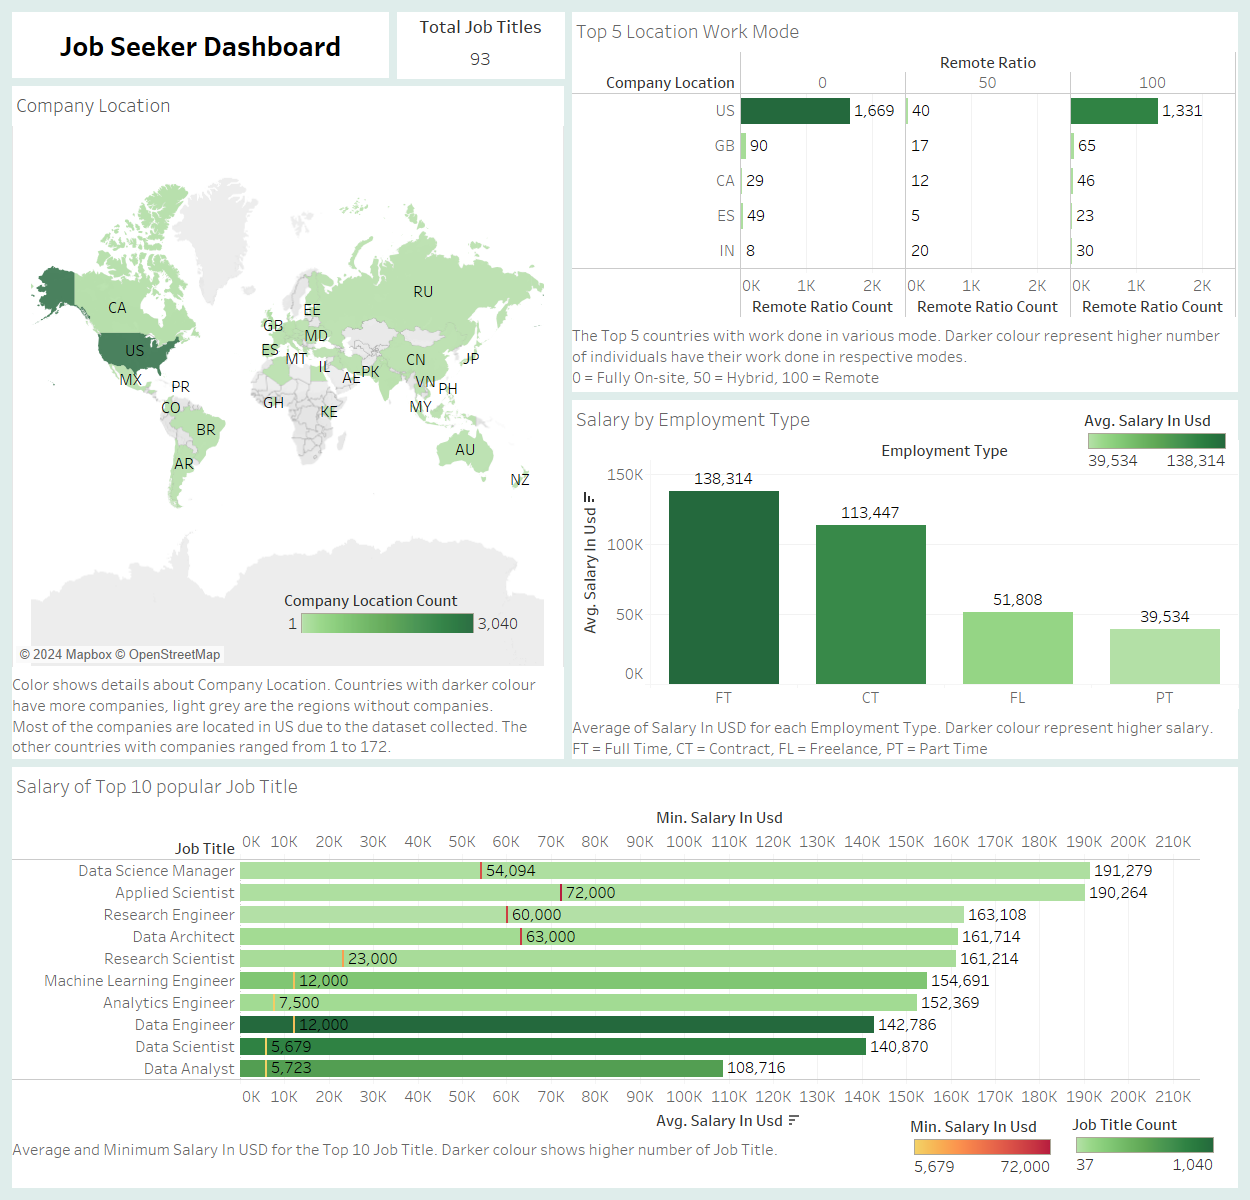

The dashboard page shown, as its layout file describes it:
{"tool":"tableau","page":{"name":"Job seeker","canvas":[1250,1200],"ordinal":2},"visuals":[{"type":"text","box":[8,8,384.6,74.1]},{"type":"worksheet","title":"Distinct Job titles","mark":"Automatic","box":[392.6,8,175.4,74.1]},{"type":"worksheet","title":"Company vs remote","mark":"Bar","rows":["company_location"],"cols":["remote_ratio","remote_ratio"],"box":[568,8,674,388]},{"type":"worksheet","title":"Company location Map","mark":"Multipolygon","box":[8,82.1,560,680.9]},{"type":"worksheet","title":"employment type salary","mark":"Automatic","rows":["salary_in_usd"],"cols":["employment_type"],"box":[568,396,674,367]},{"type":"legend","title":"employment type salary","param":"[federated.1ubzi4w18pd77j1g8wl2v0i1bgqj].[avg:salary_in_usd:qk]","box":[1089,405,146,105]},{"type":"filter","title":"employment type salary","param":"[federated.1ubzi4w18pd77j1g8wl2v0i1bgqj].[none:company_size:nk]","box":[1089,474,146,49]},{"type":"legend","title":"Company location Map","param":"[federated.1ubzi4w18pd77j1g8wl2v0i1bgqj].[none:company_location:nk]","box":[284,586,239,47]},{"type":"worksheet","title":"Avg min Salary of popular job title","mark":"GanttBar","rows":["job_title"],"cols":["salary_in_usd","salary_in_usd"],"box":[8,763,1234,429]}]}

Visuals, with their boxes in screenshot pixels (x1, y1, x2, y2), scaled from the page's 1250x1200 canvas onto the 1250x1200 screenshot:
text: bbox=[8, 8, 393, 82]
"Distinct Job titles" worksheet: bbox=[393, 8, 568, 82]
"Company vs remote" worksheet (Bar marks): bbox=[568, 8, 1242, 396]
"Company location Map" worksheet (Multipolygon marks): bbox=[8, 82, 568, 763]
"employment type salary" worksheet: bbox=[568, 396, 1242, 763]
"employment type salary" legend: bbox=[1089, 405, 1235, 510]
"employment type salary" filter: bbox=[1089, 474, 1235, 523]
"Company location Map" legend: bbox=[284, 586, 523, 633]
"Avg min Salary of popular job title" worksheet (GanttBar marks): bbox=[8, 763, 1242, 1192]
